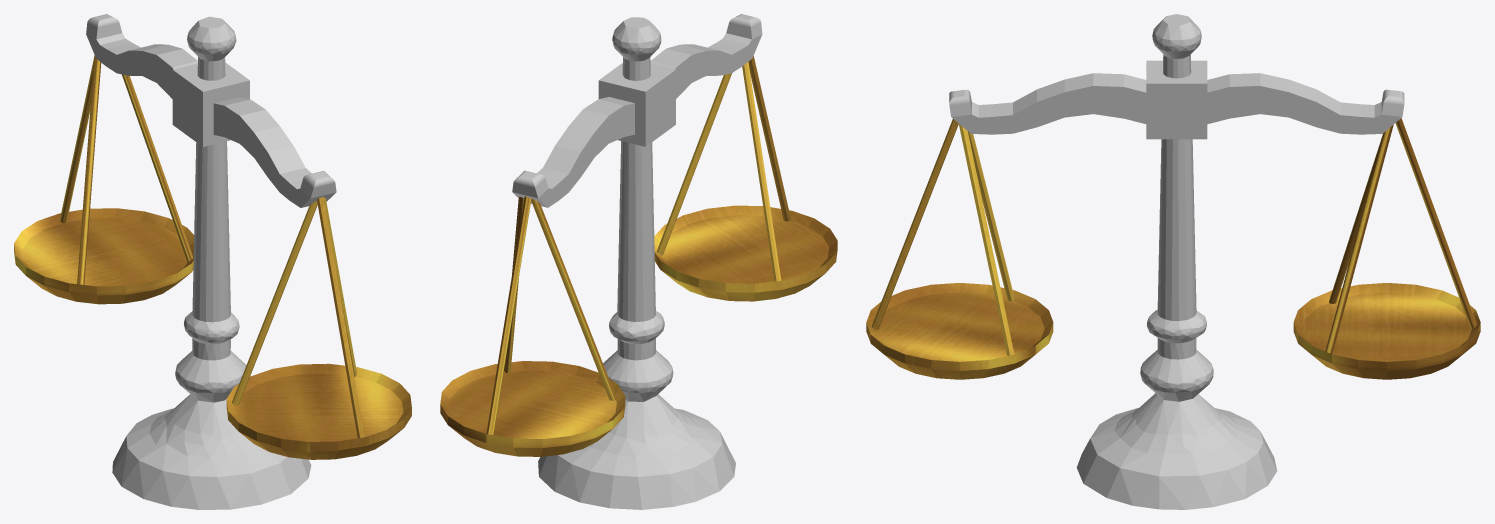
File: scale.fbx
3 renders of one model, left to right at view 1: azimuth 30°, elevation 25°; view 2: azimuth 150°, elevation 25°; view 3: azimuth 270°, elevation 25°, orthographic.
Visible parts, largest first — view 1: Scale Base, Left Bowl, Right Bowl, Scale Arms; view 2: Scale Base, Left Bowl, Right Bowl, Scale Arms; view 3: Scale Base, Scale Arms, Left Bowl, Right Bowl.
Boxes of the visible parts, x1,y1,x2,y2 form: Scale Base: (112, 16, 311, 509); Left Bowl: (226, 197, 411, 459); Right Bowl: (14, 55, 194, 304); Scale Arms: (86, 14, 336, 207); Scale Base: (538, 17, 735, 509); Left Bowl: (654, 56, 837, 301); Right Bowl: (440, 196, 625, 456); Scale Arms: (512, 14, 762, 207); Scale Base: (1076, 14, 1277, 509); Scale Arms: (949, 60, 1404, 139); Left Bowl: (866, 119, 1053, 379); Right Bowl: (1293, 118, 1480, 379).
Bounding box in the file's own units: 161 × 397 × 494.
